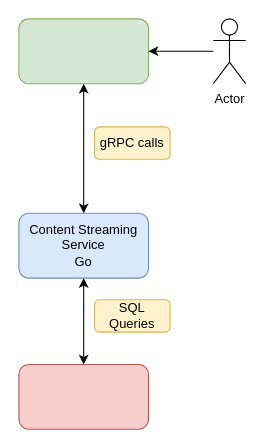
Image size: 265x448. Some labels were removed from this diagram. Here are the shapes that lost their labels. From the top down, the box of each, then its label:
(18, 18, 148, 84): UI ReactJS
(18, 363, 148, 429): Music Database PostgreSQL
